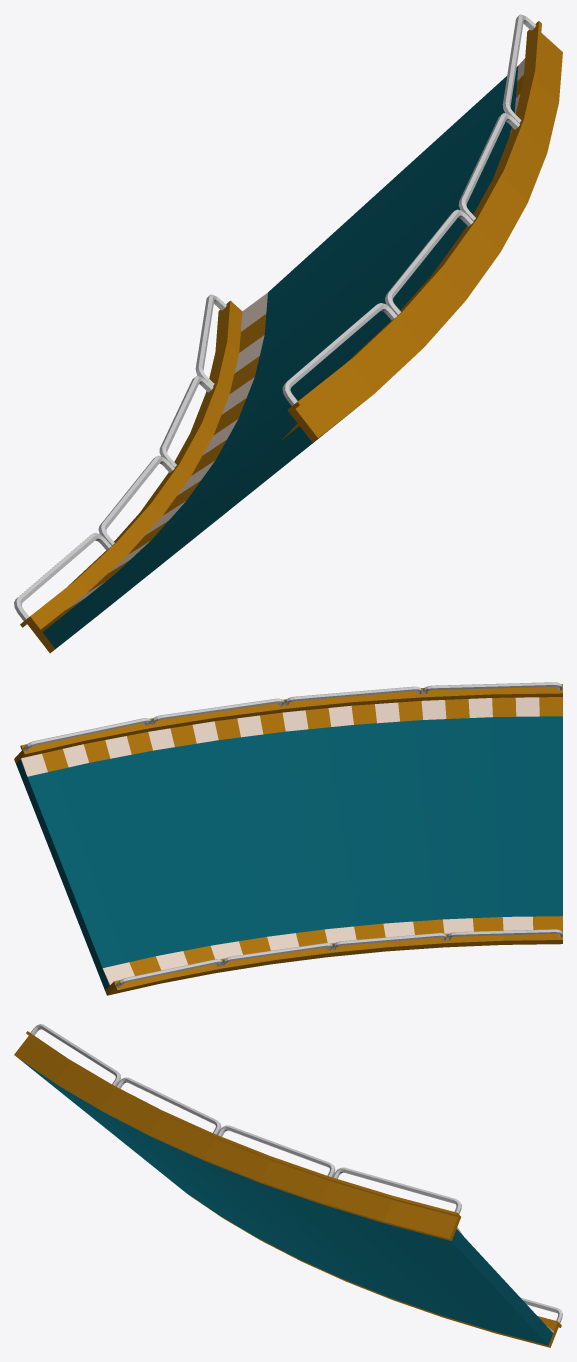
The model's file is bankedRight-30-45_m.FBX.
3 views of the same model, one above another, from view 1: azimuth 30°, elevation 25°; view 2: azimuth 150°, elevation 25°; view 3: azimuth 270°, elevation 25° (orthographic). The views are drawn at different scales.
Parts seen in each view (by area): view 1: bankedRight-30-45_m, wall_l, wall_r, curbs_r; view 2: bankedRight-30-45_m, curbs_l, wall_l, curbs_r, wall_r; view 3: bankedRight-30-45_m, wall_l, wall_r.
Boxes of the visible parts, x1,y1,x2,y2 form: bankedRight-30-45_m: (42, 66, 518, 648); wall_l: (282, 14, 562, 442); wall_r: (14, 294, 242, 653); curbs_r: (41, 292, 267, 631); bankedRight-30-45_m: (16, 716, 562, 990); curbs_l: (20, 697, 562, 776); wall_l: (14, 682, 562, 763); curbs_r: (103, 916, 562, 985); wall_r: (105, 929, 562, 995); bankedRight-30-45_m: (19, 1059, 553, 1345); wall_l: (14, 1024, 461, 1240); wall_r: (186, 1193, 562, 1347).
Size of what is drawn, in the model's own units: 385 by 163 by 385.
